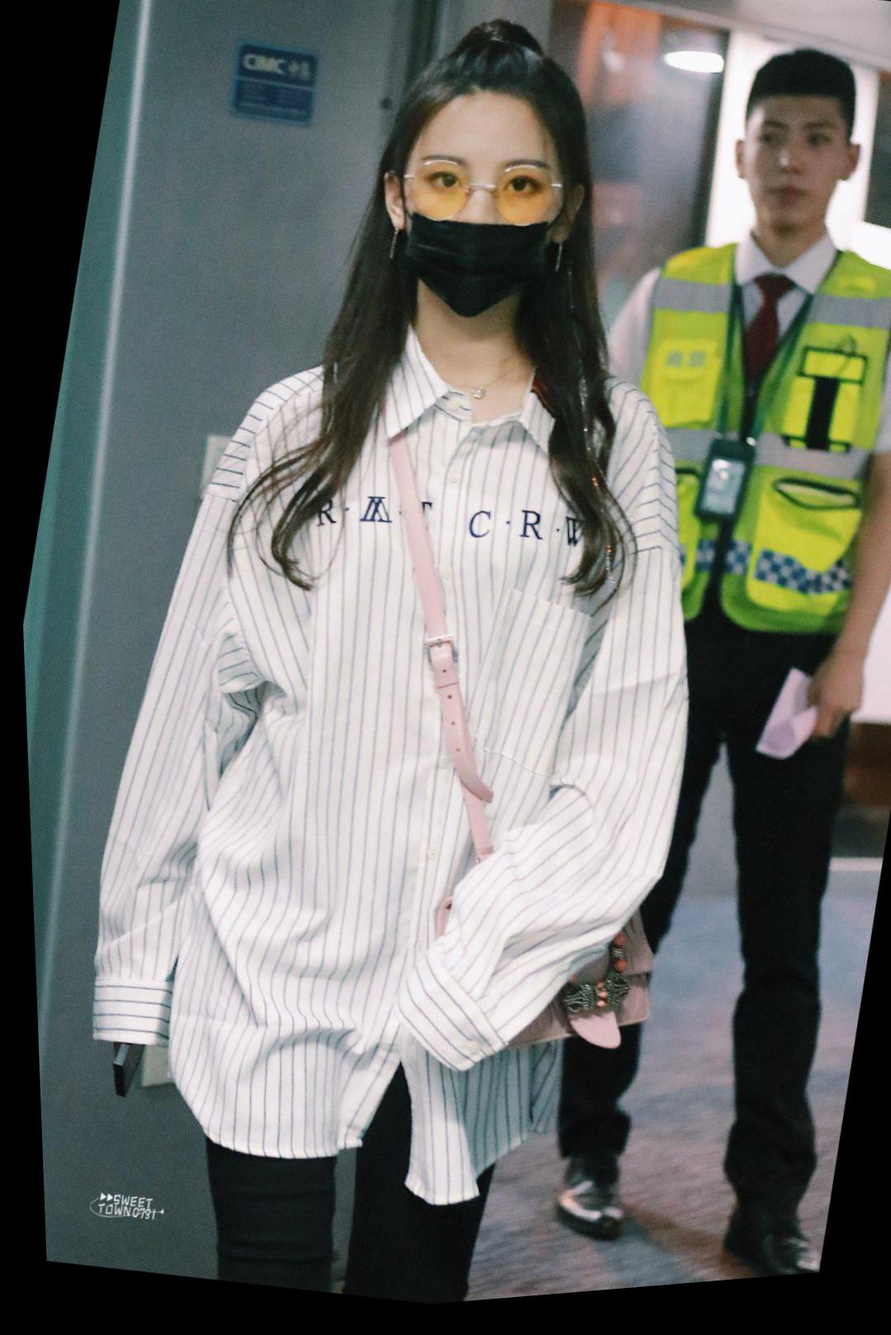NONE: (729, 112, 849, 255)
WRONG: (382, 117, 574, 341)
